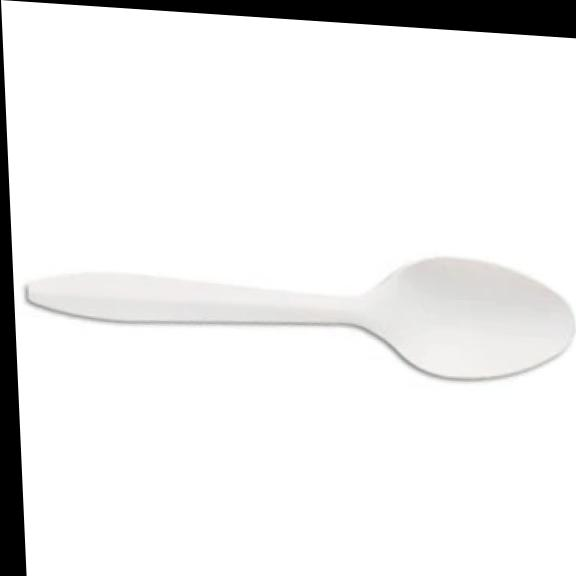Plastik: (27, 258, 572, 379)
